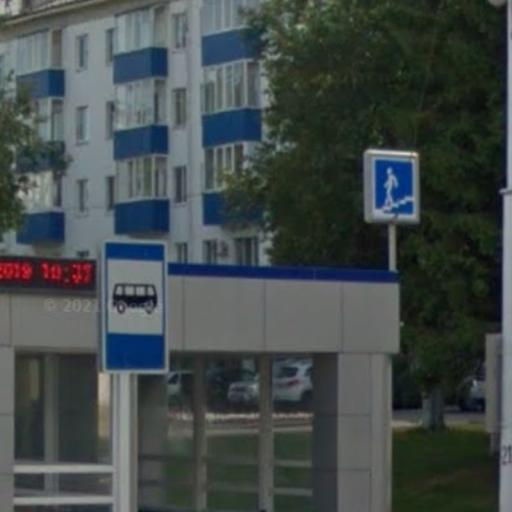traffic_sign: (100, 237, 173, 379)
